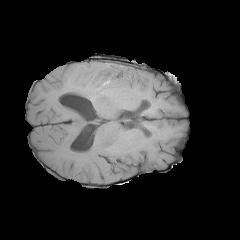glioma: (67, 61, 135, 98)
